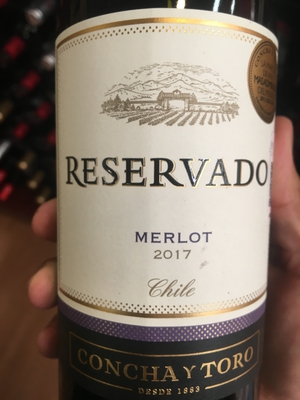reservado merlot: (45, 7, 283, 390)
